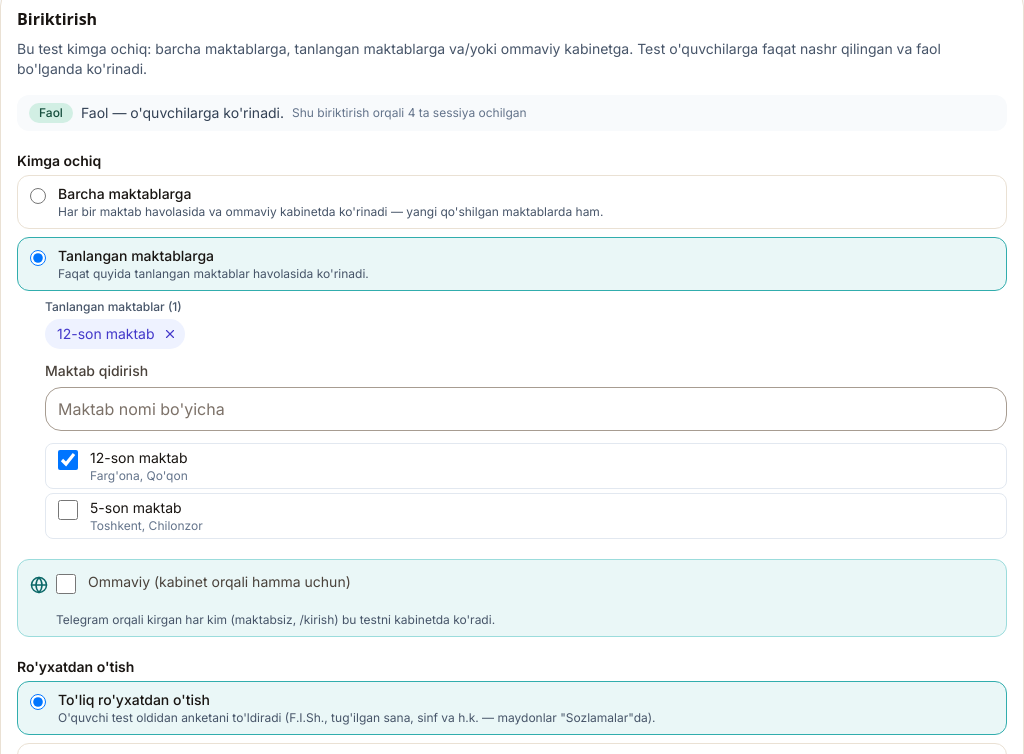
Test: TestAssignmentCard › ommaviy kabinet belgisi isInPublicSpace: true bilan yuboriladi
Click the checkbox labelled "Ommaviy (kabinet orqali hamma uchun)". click: [66, 584]
box: [56,574,76,594]
(page scrolled)
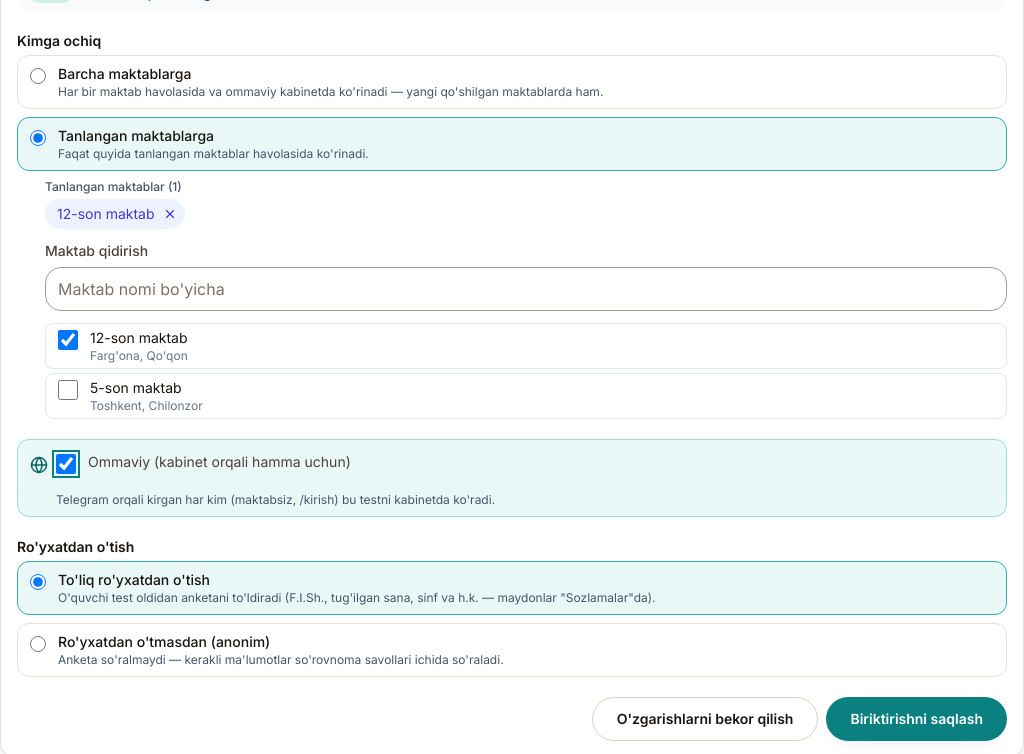
Click the button "Biriktirishni saqlash". click: [917, 719]
box: [826,697,1007,741]
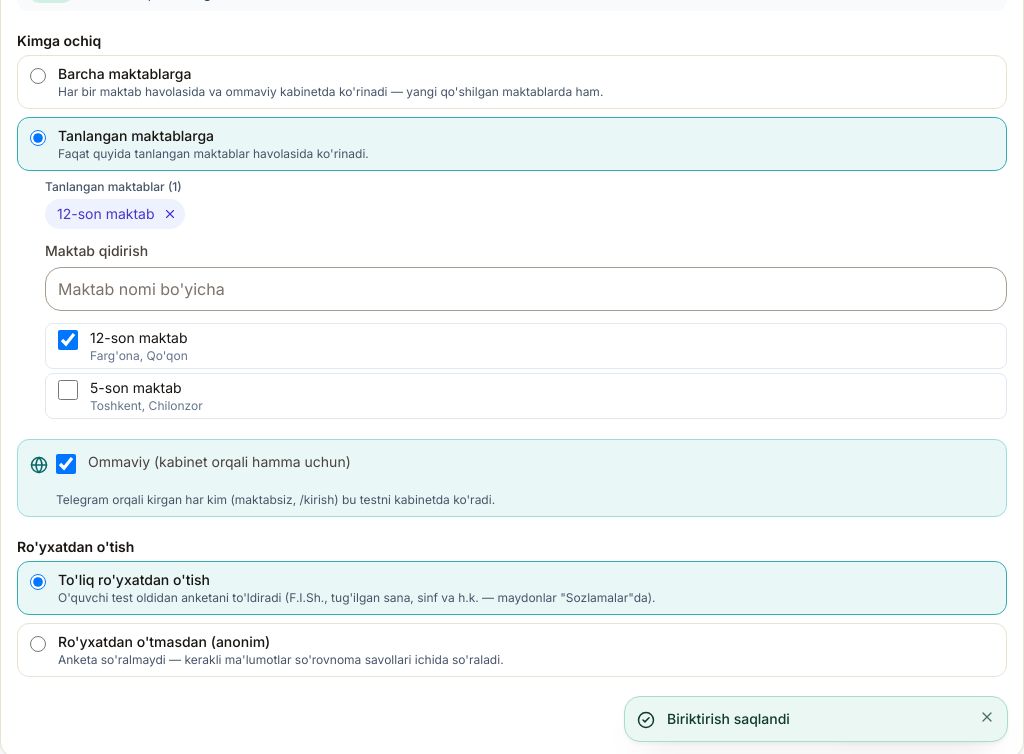
Check: the text "Biriktirish saqlandi" is shown, box [667,710,790,727]
